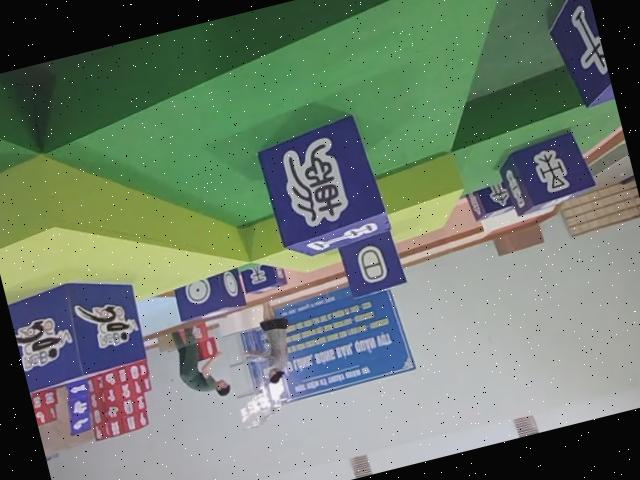R1 Blue: (4, 265, 151, 393)
R2 Fake Blue: (253, 110, 394, 263), (335, 226, 407, 298), (465, 181, 516, 223)
R2 Real Blue: (493, 123, 599, 216), (531, 0, 615, 112), (170, 264, 248, 323), (238, 260, 286, 298)
